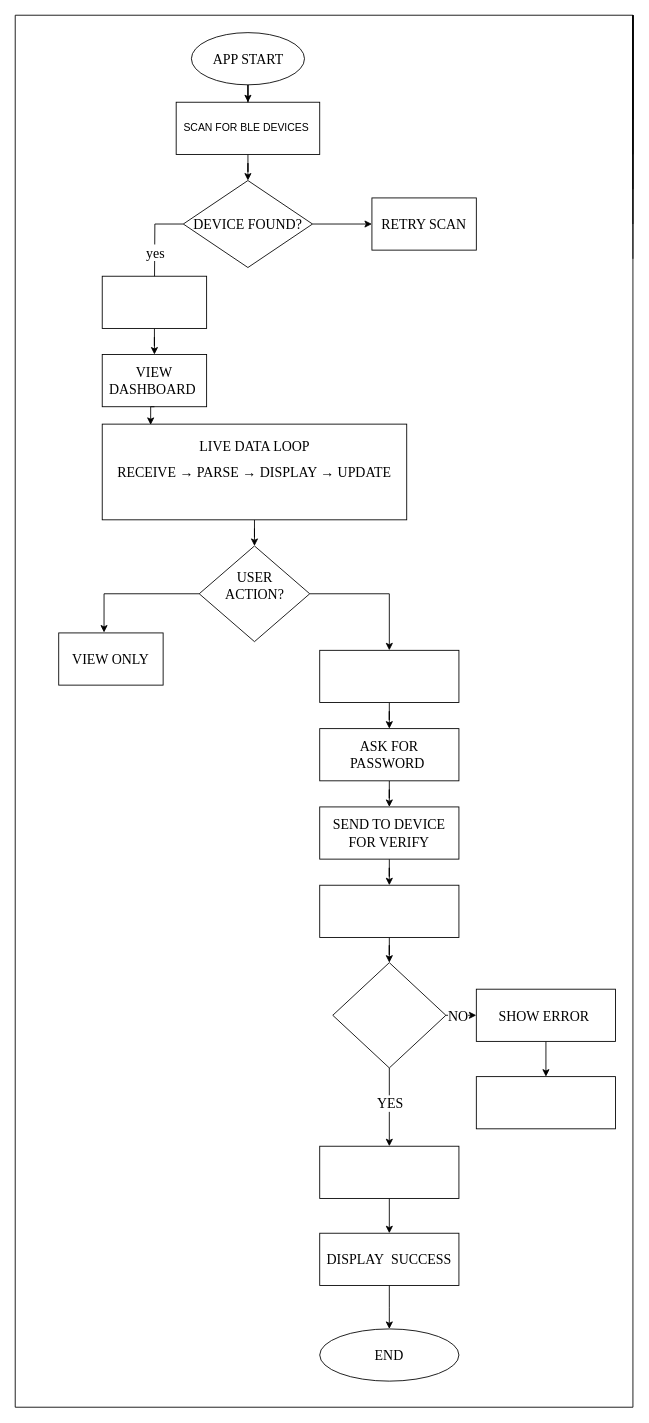
Some shapes in this 649 by 1423 pixel diagram are drawn without their labels. Each missing label, with the centre of its shape:
"CONNECT TO DEVICE" belongs at [154,301].
"CORRECT ?" belongs at [389,1015].
"DEVICE RESPONDS" belongs at [389,910].
"RETRY AGAIN" belongs at [545,1102].
"SEND UPDATE" belongs at [389,1171].
"UPDATE PARAMETERS" belongs at [389,676].
